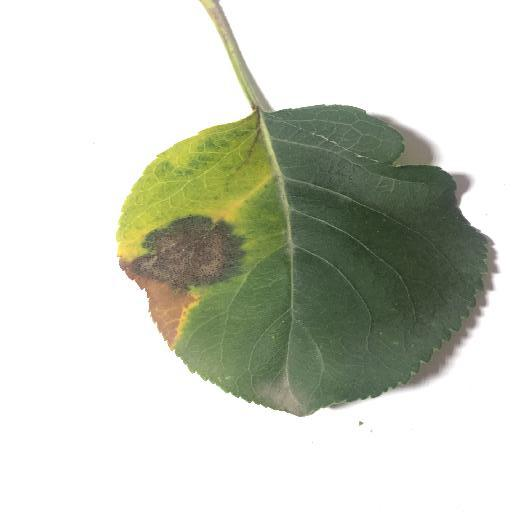Brown_Spot: (113, 209, 251, 357)
